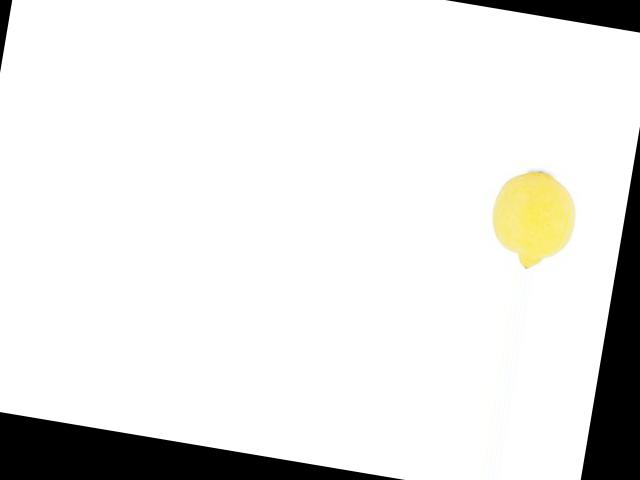lemon: (483, 156, 596, 278)
